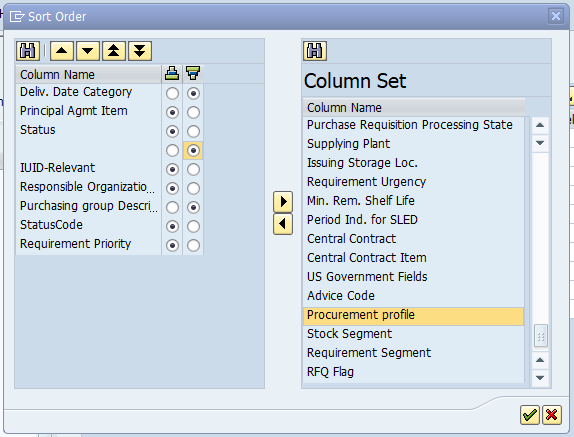COLUMN: (15, 63, 160, 259), (161, 63, 182, 258), (182, 62, 202, 258)
HEADER_ROW: (15, 64, 205, 83)
IMAGEBUTTON: (16, 41, 40, 61), (50, 41, 74, 61), (103, 41, 126, 61), (128, 41, 151, 61), (273, 191, 293, 214), (303, 42, 327, 61), (77, 41, 99, 61), (273, 214, 293, 235), (543, 405, 562, 425), (520, 406, 539, 425), (548, 8, 565, 25)
RADIOBUTTON_CLICKED: (186, 86, 201, 101), (165, 105, 180, 120), (165, 124, 180, 139), (186, 143, 201, 158), (165, 162, 180, 177), (165, 181, 180, 196), (186, 200, 201, 215), (165, 219, 180, 234), (165, 238, 180, 253)
RADIOBUTTON_UNCLICKED: (165, 86, 180, 101), (186, 105, 201, 120), (186, 124, 201, 139), (165, 143, 180, 158), (186, 162, 201, 177), (186, 181, 201, 196), (165, 200, 180, 215), (186, 219, 201, 234), (186, 238, 201, 253)
ROW: (14, 234, 206, 258), (13, 83, 204, 104), (13, 178, 204, 199), (12, 121, 203, 142), (12, 140, 203, 161), (13, 198, 204, 219), (14, 216, 205, 237), (14, 84, 205, 104), (14, 159, 203, 179), (13, 105, 203, 121)
SCROLLBAR_VERTICAL: (532, 116, 550, 389)
SCROLLBAR_VERTICAL_BAR: (533, 324, 550, 347)
SCROLLBAR_VERTICAL_HANDLE_DOWN: (531, 352, 551, 389)
SCROLLBAR_VERTICAL_HANDLE_UP: (532, 117, 550, 151)
TABLE: (15, 63, 205, 260)
